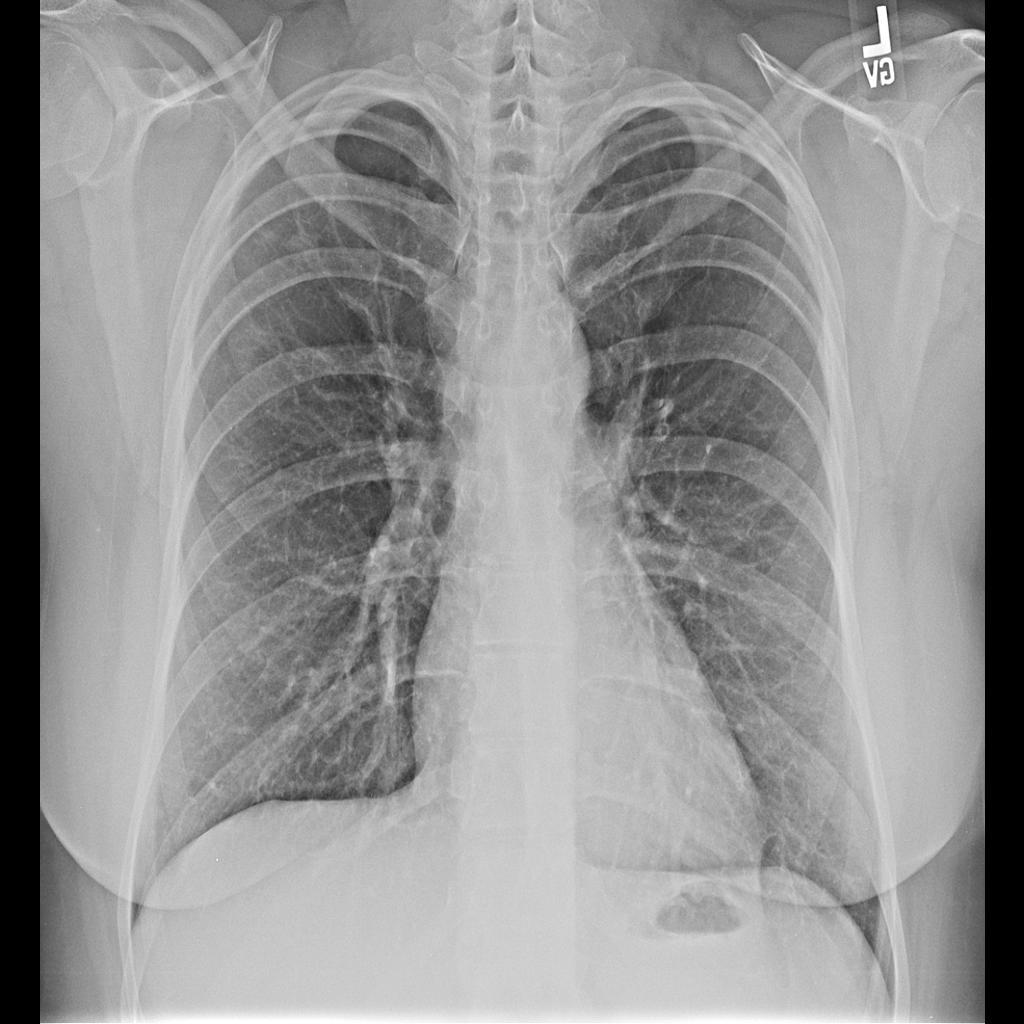Nodule: (282, 225, 327, 269)
